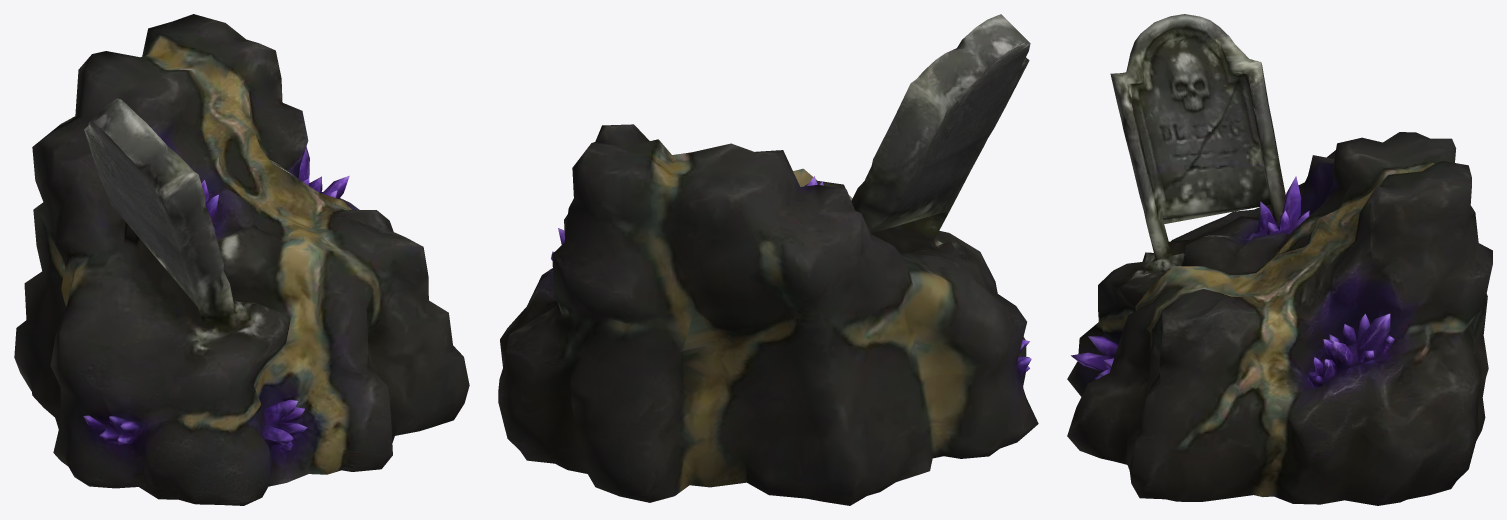
The model's file is prop_node_ore_seam_gold.glb.
The picture shows the model from 3 angles, left to right: view 1: azimuth 30°, elevation 25°; view 2: azimuth 150°, elevation 25°; view 3: azimuth 270°, elevation 25°; orthographic projection. The views are drawn at different scales.
Visible parts, largest first — view 1: tripo_node_0bf5bb75-011f-4941-bb16-5c0978e515fd; view 2: tripo_node_0bf5bb75-011f-4941-bb16-5c0978e515fd; view 3: tripo_node_0bf5bb75-011f-4941-bb16-5c0978e515fd.
Boxes of the visible parts, x1,y1,x2,y2 form: tripo_node_0bf5bb75-011f-4941-bb16-5c0978e515fd: [14, 14, 469, 505]; tripo_node_0bf5bb75-011f-4941-bb16-5c0978e515fd: [498, 14, 1038, 505]; tripo_node_0bf5bb75-011f-4941-bb16-5c0978e515fd: [1067, 14, 1492, 505].
Bounding box in the file's own units: 0.9786 × 0.8964 × 0.998.
Materials: 1 (1 with a texture image).
